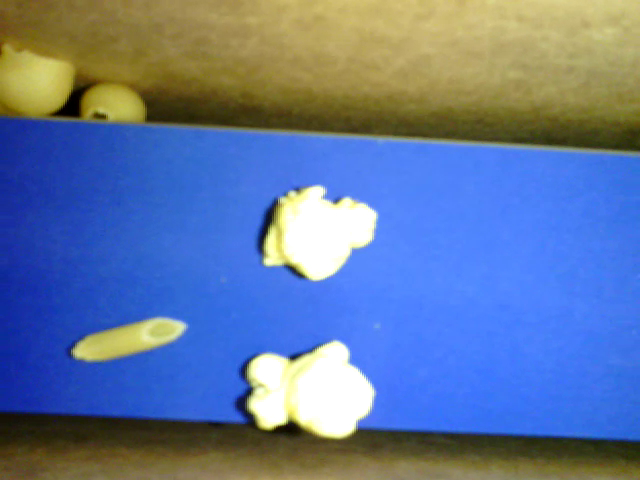penne: (71, 317, 186, 362)
shell: (1, 44, 75, 117), (80, 83, 145, 122)
